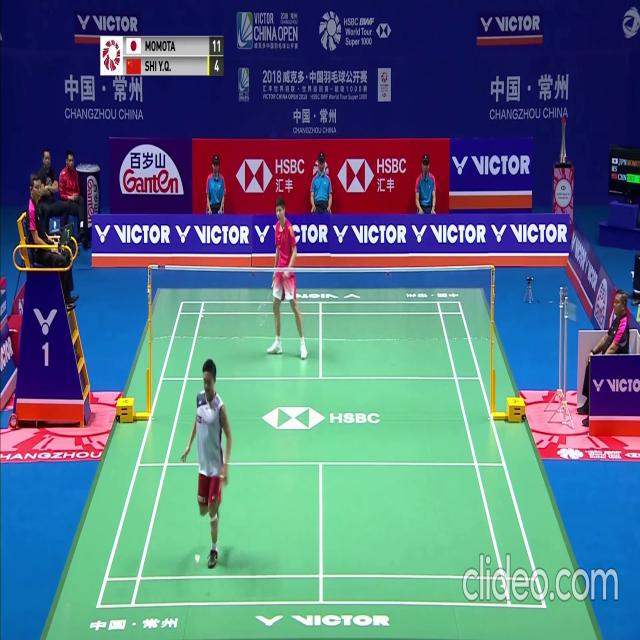Shuttlecock: (195, 555, 199, 563)
